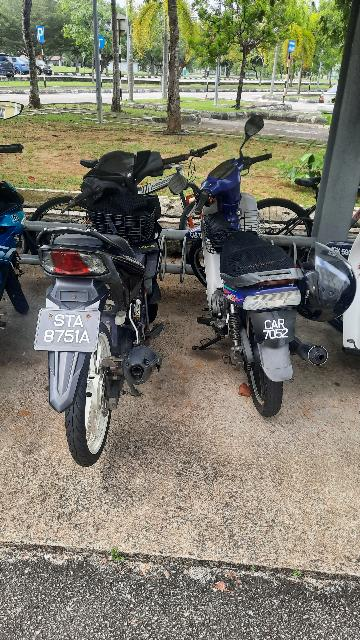License_Plate: (34, 306, 103, 355), (245, 308, 303, 346)
motorcycle: (33, 133, 179, 472), (165, 115, 316, 421)
